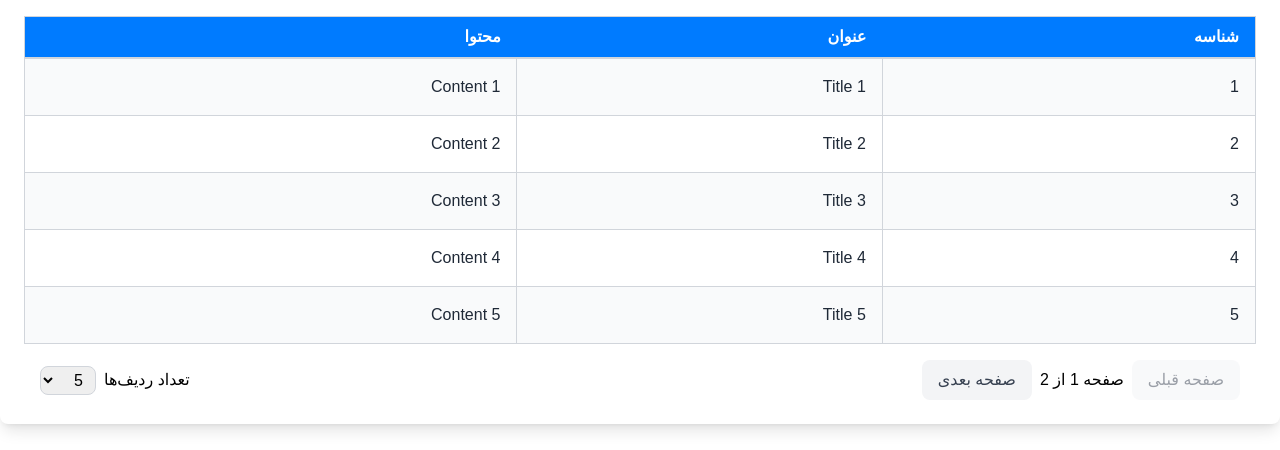
Scenario: CustomTable Component › handles pagination: next and previous page
Expected: the button "صفحه قبلی" is disabled, left=1132, top=360, right=1240, bottom=400
Click the button "صفحه بعدی" at x=977, y=380, box left=922, top=360, right=1032, bottom=400
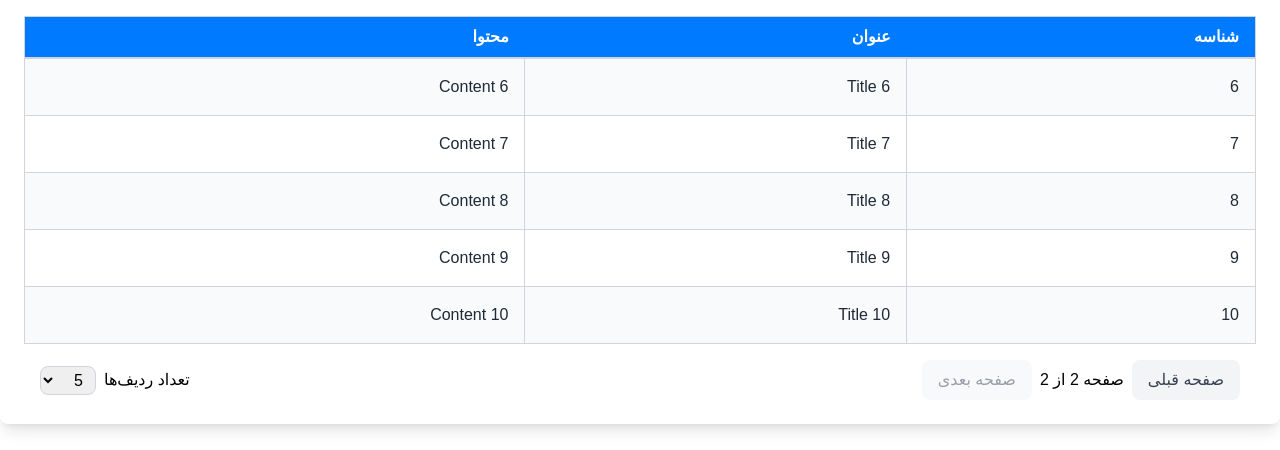
Expected: the button "صفحه قبلی" is enabled, left=1132, top=360, right=1240, bottom=400
